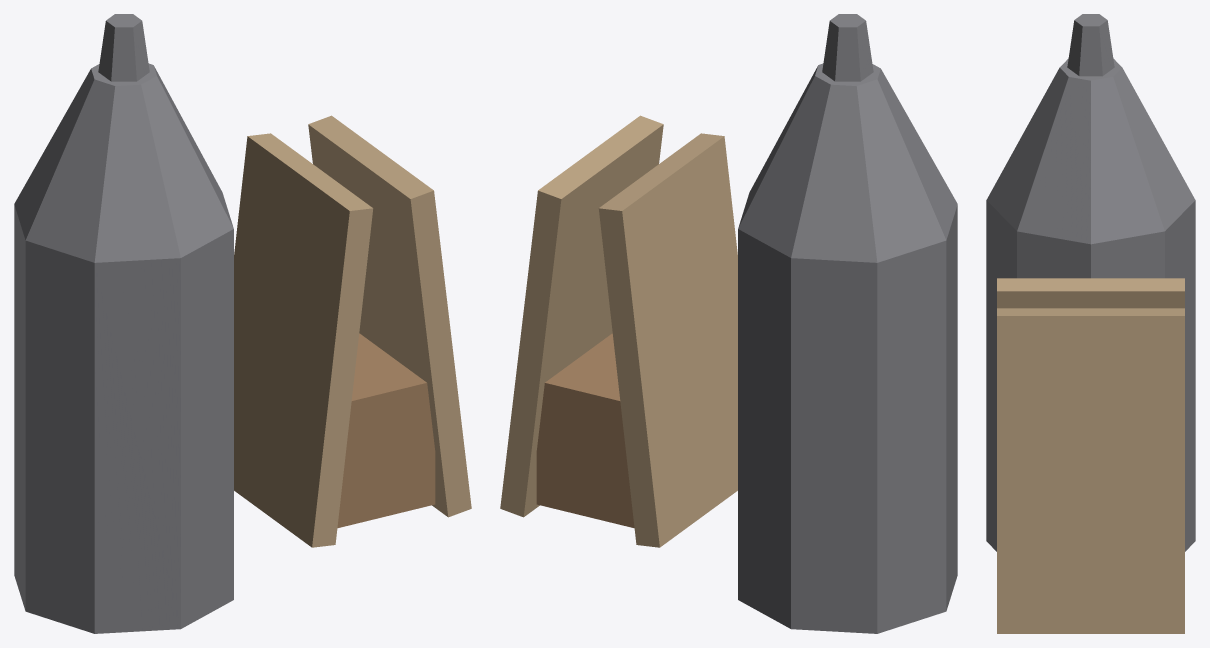
The model's file is prop-smoker-bellows.fbx.
3 renders of one model, left to right at view 1: azimuth 30°, elevation 25°; view 2: azimuth 150°, elevation 25°; view 3: azimuth 270°, elevation 25°, orthographic. The views are drawn at different scales.
Parts seen in each view (by area): view 1: prop-smoker-bellows; view 2: prop-smoker-bellows; view 3: prop-smoker-bellows.
Part boxes in pixels (bbox=[...]): prop-smoker-bellows: bbox=[14, 14, 471, 633]; prop-smoker-bellows: bbox=[500, 14, 957, 633]; prop-smoker-bellows: bbox=[986, 14, 1195, 633].
Size of the model in its own units: 20.05 by 27.5 by 10.
